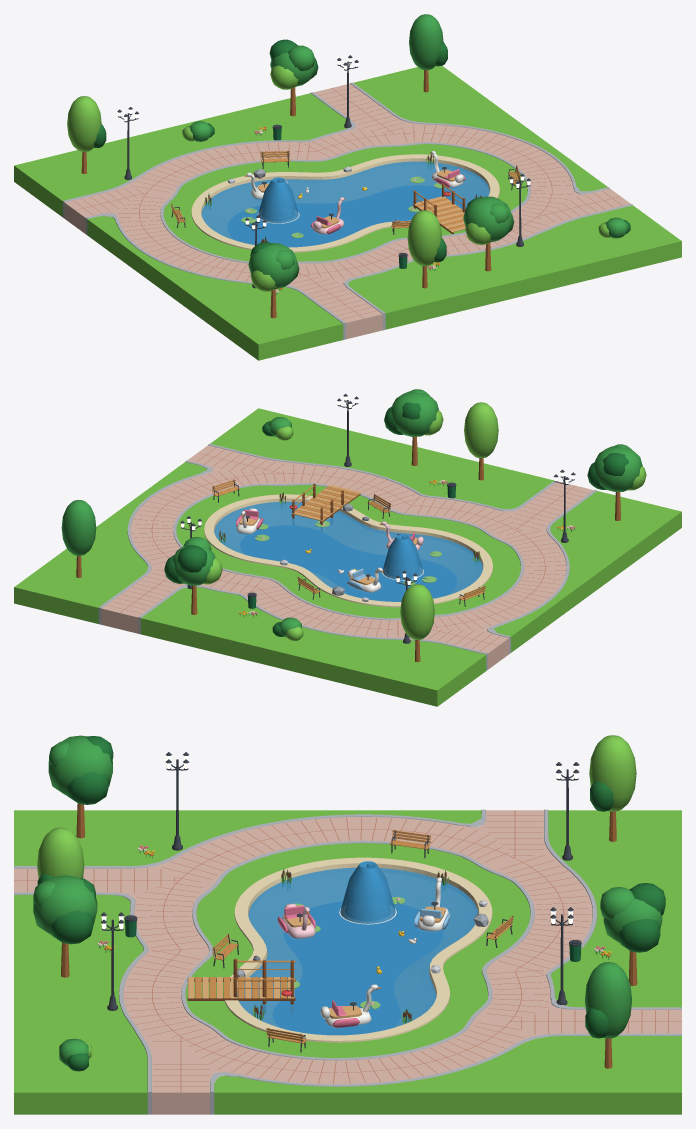
The model's file is lago_caminho.glb.
3 views of the same model, one above another, from view 1: azimuth 30°, elevation 25°; view 2: azimuth 150°, elevation 25°; view 3: azimuth 270°, elevation 25° (orthographic). The views are drawn at different scales.
Visible parts, largest first — view 1: lago_caminho, pedalinho_2, pedalinho_1; view 2: lago_caminho, pedalinho_3, pedalinho_1; view 3: lago_caminho, pedalinho_1, pedalinho_2, pedalinho_3.
Part boxes in pixels (bbox=[...]): lago_caminho: bbox=[14, 14, 681, 360]; pedalinho_2: bbox=[311, 197, 345, 234]; pedalinho_1: bbox=[430, 151, 465, 187]; lago_caminho: bbox=[14, 389, 681, 706]; pedalinho_3: bbox=[347, 567, 383, 592]; pedalinho_1: bbox=[236, 508, 263, 533]; lago_caminho: bbox=[14, 735, 681, 1114]; pedalinho_1: bbox=[320, 984, 380, 1027]; pedalinho_2: bbox=[277, 903, 315, 938]; pedalinho_3: bbox=[414, 877, 450, 930].
Size of the model in its own units: 30 by 6.23 by 30.
Materials: 3 (1 with a texture image).
